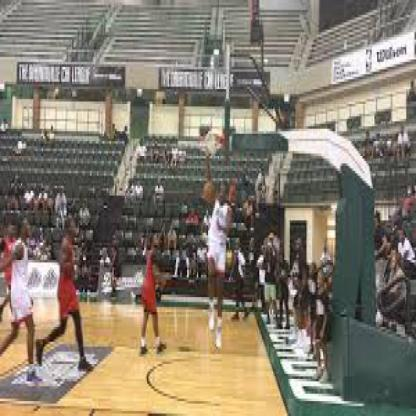basketball: (202, 179, 215, 203)
rim: (204, 131, 222, 151)
